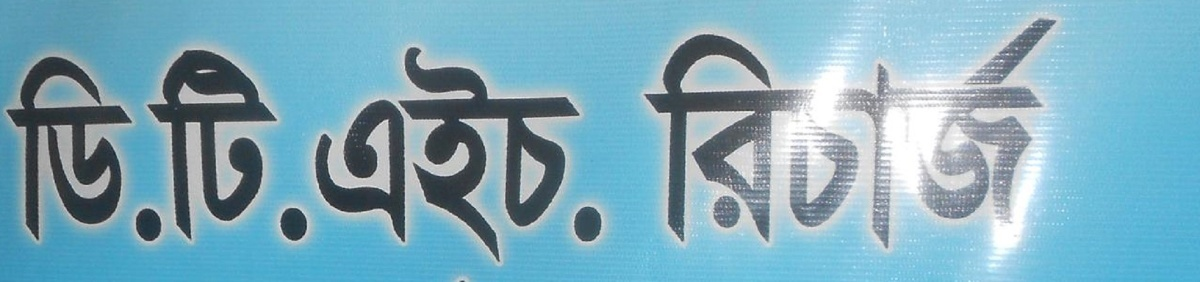text: (657, 14, 672, 250), (673, 14, 688, 250), (689, 14, 704, 250), (705, 14, 720, 250), (721, 14, 736, 250), (737, 14, 752, 250), (753, 14, 768, 250), (769, 14, 784, 250), (785, 14, 800, 250), (801, 14, 816, 250), (817, 14, 832, 250), (833, 14, 848, 250), (849, 14, 864, 250), (865, 14, 880, 250), (881, 14, 896, 250), (897, 14, 912, 250), (913, 14, 928, 250), (929, 14, 944, 250), (945, 14, 960, 250), (961, 14, 976, 250), (977, 14, 992, 250), (993, 14, 1008, 250), (1009, 14, 1024, 250), (1025, 14, 1040, 250), (1041, 14, 1056, 250), (289, 46, 304, 267), (305, 46, 320, 267), (321, 46, 336, 267), (337, 46, 352, 267), (353, 46, 368, 267), (369, 46, 384, 267), (385, 46, 400, 267), (401, 46, 416, 267), (417, 46, 432, 267), (433, 46, 448, 267), (449, 46, 464, 267), (465, 46, 480, 267), (481, 46, 496, 267), (497, 46, 512, 267), (513, 46, 528, 267), (529, 46, 544, 267), (545, 46, 560, 267), (561, 46, 576, 267), (577, 46, 592, 267), (643, 14, 656, 250), (145, 48, 160, 247), (161, 48, 176, 247), (177, 48, 192, 247), (193, 48, 208, 247), (209, 48, 224, 247), (225, 48, 240, 247), (241, 48, 256, 247), (257, 48, 272, 247), (17, 53, 32, 247), (33, 53, 48, 247), (49, 53, 64, 247), (65, 53, 80, 247), (81, 53, 96, 247), (97, 53, 112, 247), (113, 53, 128, 247), (275, 46, 288, 267), (593, 46, 604, 267), (5, 53, 16, 247), (135, 48, 144, 247), (273, 48, 282, 247), (129, 53, 135, 247), (1057, 14, 1058, 250)
